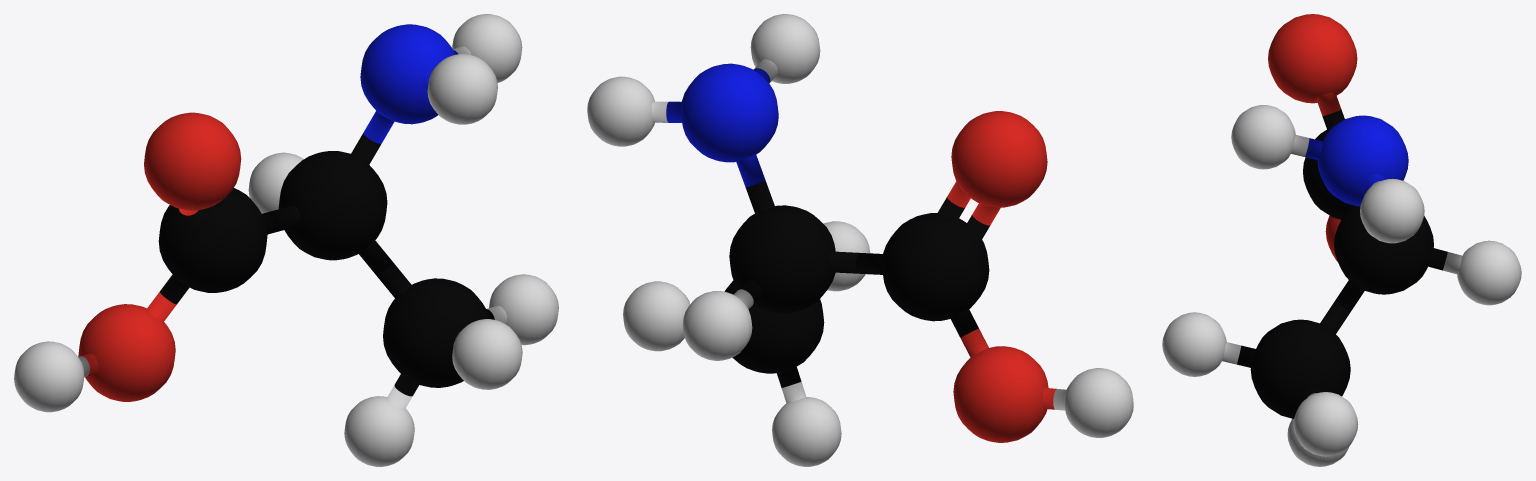
File: asset.glb
The picture shows the model from 3 angles, left to right: view 1: azimuth 30°, elevation 25°; view 2: azimuth 150°, elevation 25°; view 3: azimuth 270°, elevation 25°; orthographic projection. The views are drawn at different scales.
Parts seen in each view (by area): view 1: Shape_Sphere.003, Shape_Sphere.005, Shape_Sphere.004, Shape_Sphere.001, Shape_Sphere, Shape_Sphere.002, Shape_Sphere.009, Shape_Sphere.012, Shape_Sphere.011, Shape_Sphere.007, Shape_Sphere.008, Shape_Sphere.010 (+5 smaller); view 2: Shape_Sphere.005, Shape_Sphere.003, Shape_Sphere.002, Shape_Sphere.001, Shape_Sphere, Shape_Sphere.004, Shape_Sphere.012, Shape_Sphere.006, Shape_Sphere.007, Shape_Sphere.010, Shape_Sphere.008, Shape_Sphere.011 (+5 smaller); view 3: Shape_Sphere.004, Shape_Sphere.001, Shape_Sphere.002, Shape_Sphere.003, Shape_Sphere.008, Shape_Sphere.010, Shape_Sphere.011, Shape_Sphere.009, Shape_Sphere.006, Shape_Sphere.005, Shape_Sphere.007, Shape_Cylinder.014 (+2 smaller).
Boxes of the visible parts, x1,y1,x2,y2 form: Shape_Sphere.003: (278,151,387,260); Shape_Sphere.005: (158,188,267,292); Shape_Sphere.004: (383,278,489,387); Shape_Sphere.001: (144,112,241,210); Shape_Sphere: (78,304,175,401); Shape_Sphere.002: (360,24,455,124); Shape_Sphere.009: (452,319,522,389); Shape_Sphere.012: (14,341,84,412); Shape_Sphere.011: (427,54,497,124); Shape_Sphere.007: (344,396,414,466); Shape_Sphere.008: (489,274,558,345); Shape_Sphere.010: (452,14,522,82); Shape_Sphere.005: (881,213,989,321); Shape_Sphere.003: (729,205,835,313); Shape_Sphere.002: (681,63,778,162); Shape_Sphere.001: (951,111,1047,207); Shape_Sphere: (953,346,1048,442); Shape_Sphere.004: (724,280,824,373); Shape_Sphere.012: (1064,368,1133,437); Shape_Sphere.006: (682,291,752,360); Shape_Sphere.007: (772,397,841,466); Shape_Sphere.010: (587,76,654,146); Shape_Sphere.008: (623,281,690,351); Shape_Sphere.011: (750,14,820,83); Shape_Sphere.004: (1250,319,1350,418); Shape_Sphere.001: (1268,14,1357,103); Shape_Sphere.002: (1317,115,1408,206); Shape_Sphere.003: (1334,205,1433,294); Shape_Sphere.008: (1293,392,1358,456); Shape_Sphere.010: (1360,178,1424,243); Shape_Sphere.011: (1231,105,1295,169); Shape_Sphere.009: (1162,312,1226,376); Shape_Sphere.006: (1457,240,1521,305); Shape_Sphere.005: (1303,130,1353,219); Shape_Sphere.007: (1287,418,1349,466); Shape_Cylinder.014: (1334,279,1364,311).
Bounding box in the file's own units: 5.6 × 4.27 × 3.66.
